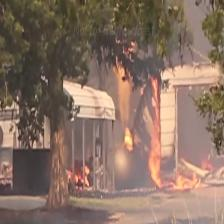fire: (147, 77, 162, 190), (167, 173, 208, 190), (64, 164, 92, 188), (123, 127, 135, 152)
